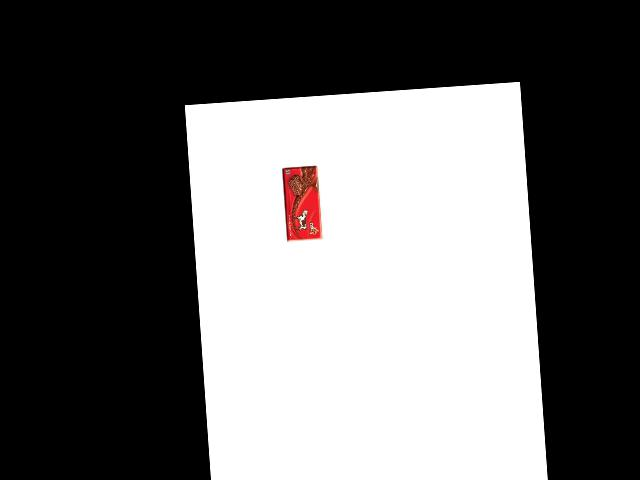chocolate: (288, 162, 329, 234)
